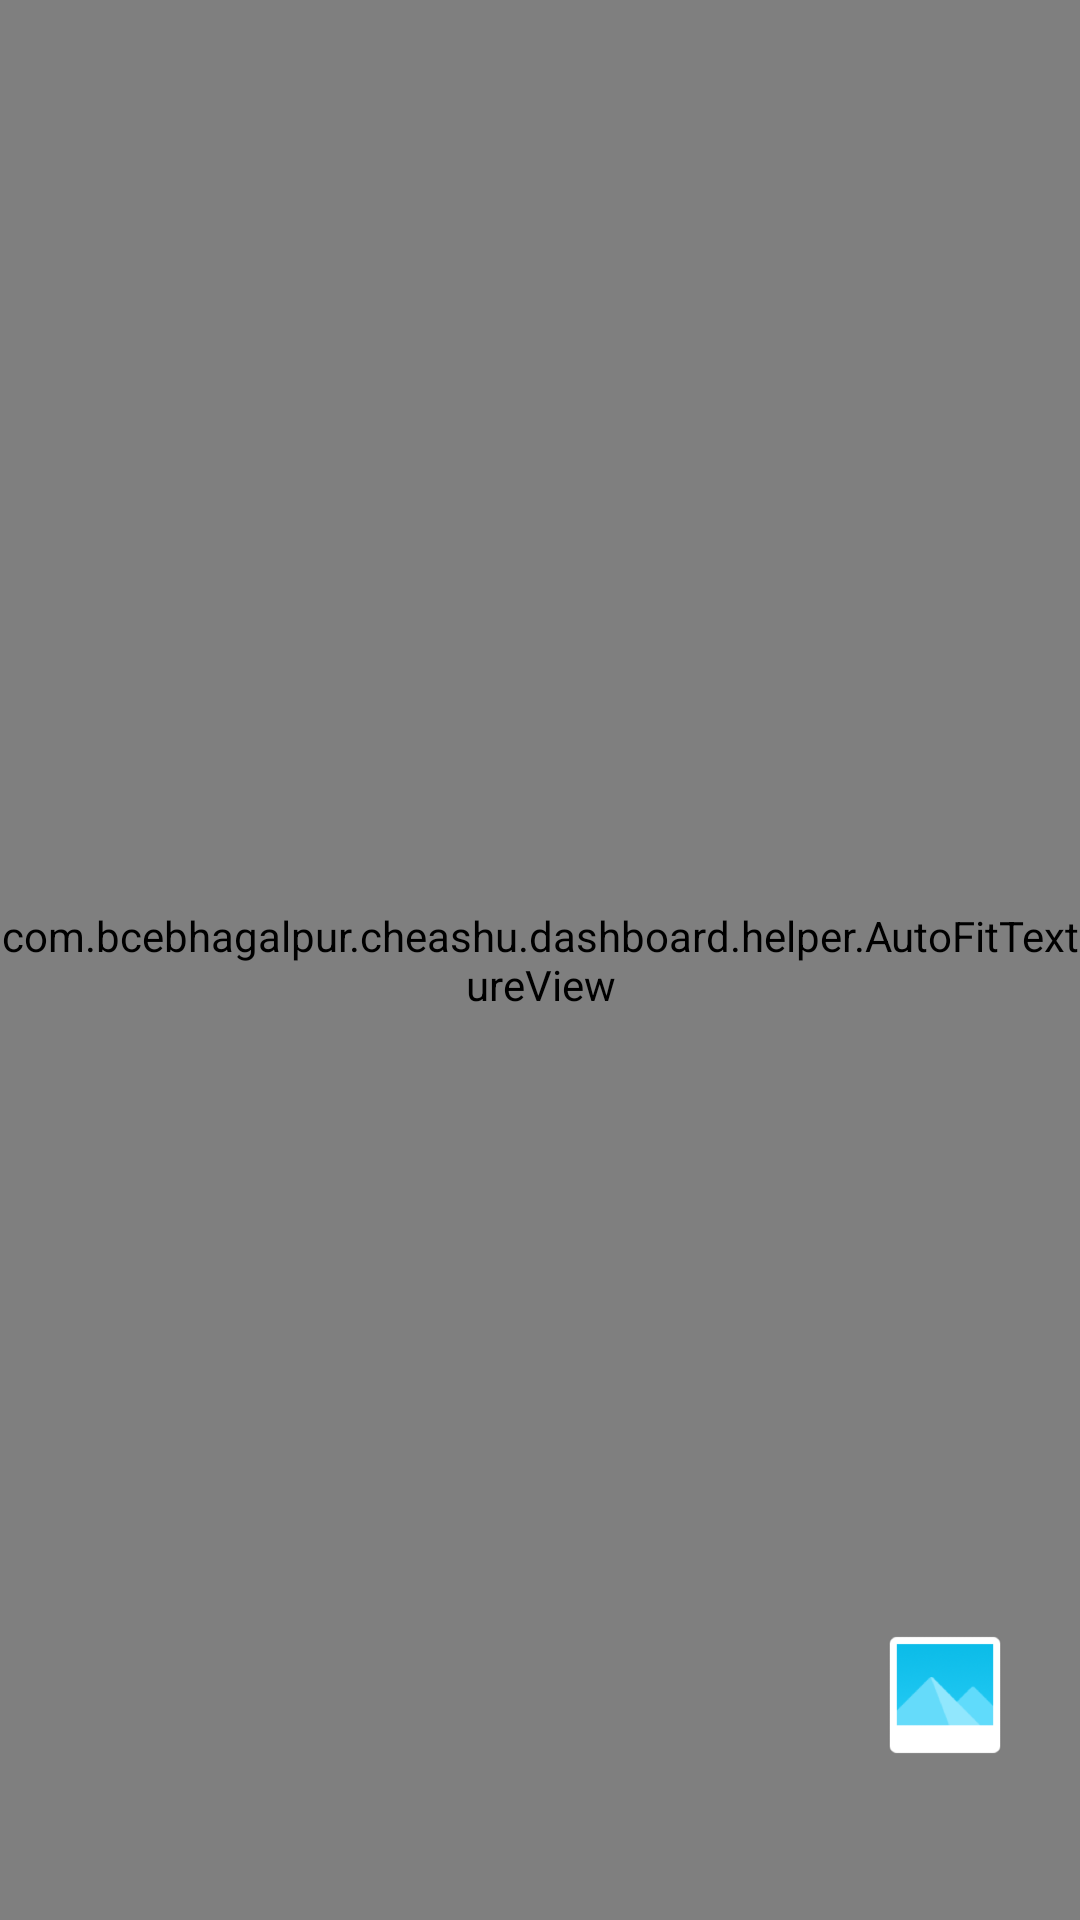

Named icons in this screenshot (1080w x 1920h) and their centers, point (x, y):
gallery rgb: point (945, 1695)
